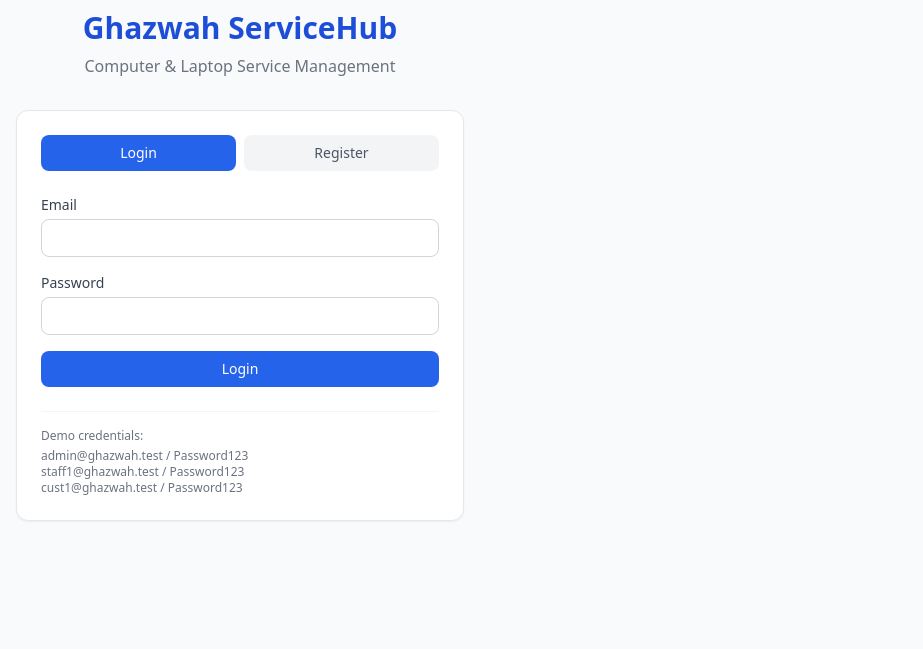
Login page › shows error toast on failed login
Type "bad@test.com" into the field labelled "Email" at (240, 238), box top-left (41, 218), bottom-right (439, 256)
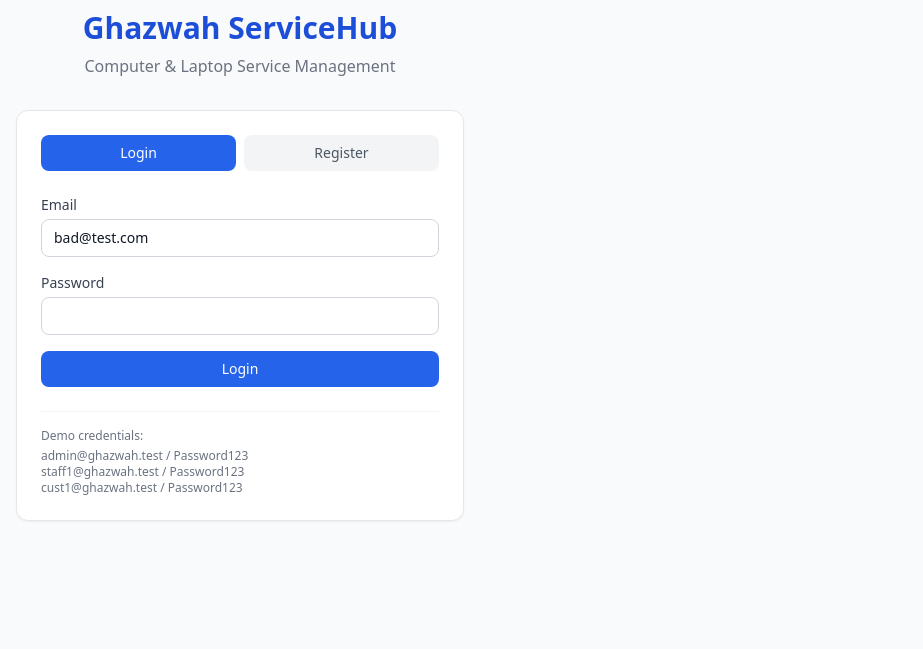
Type "Bad12345" into the password field labelled "Password" at (240, 316), box top-left (41, 296), bottom-right (439, 334)
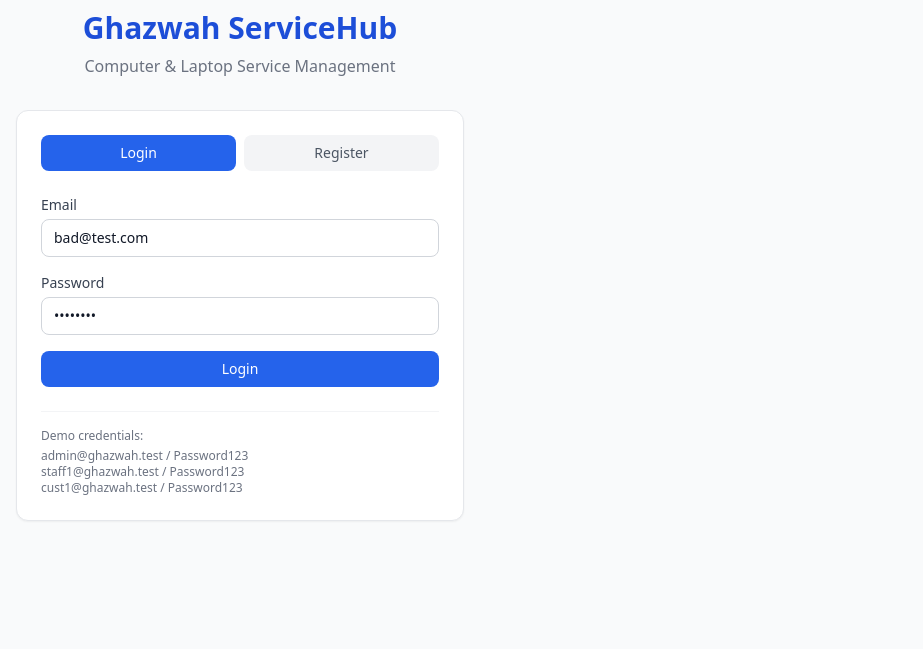
Click the button "Login" below "Email" at (240, 368), box top-left (41, 350), bottom-right (439, 386)
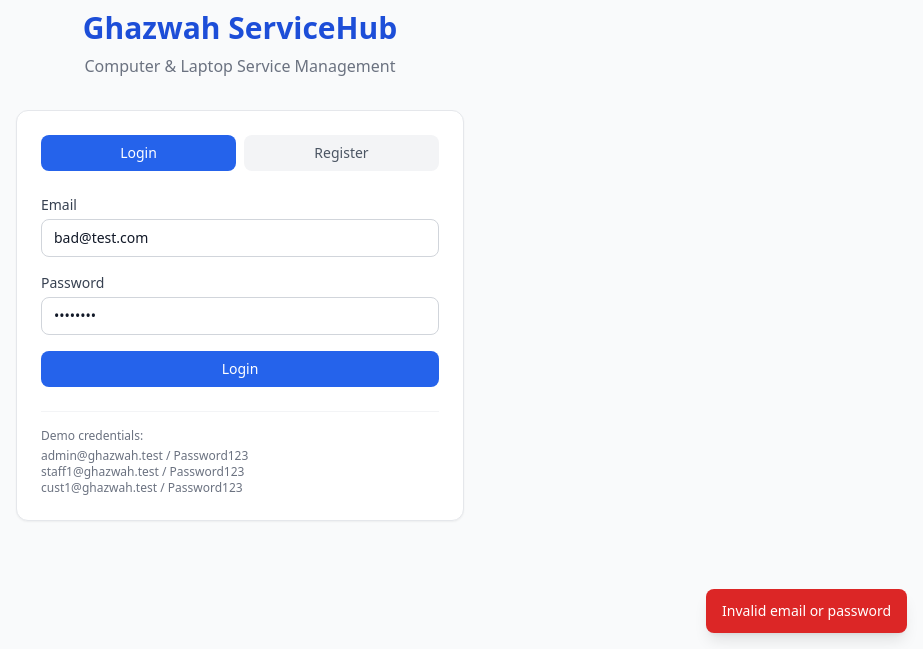
Check: the text "Invalid email or password" is shown, box top-left (706, 589), bottom-right (907, 633)
